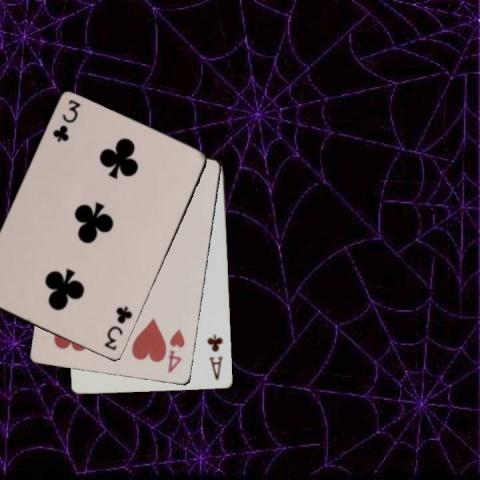3c: (101, 303, 134, 352), (49, 97, 82, 144)
4h: (164, 326, 186, 375)
Ac: (205, 331, 225, 382)
